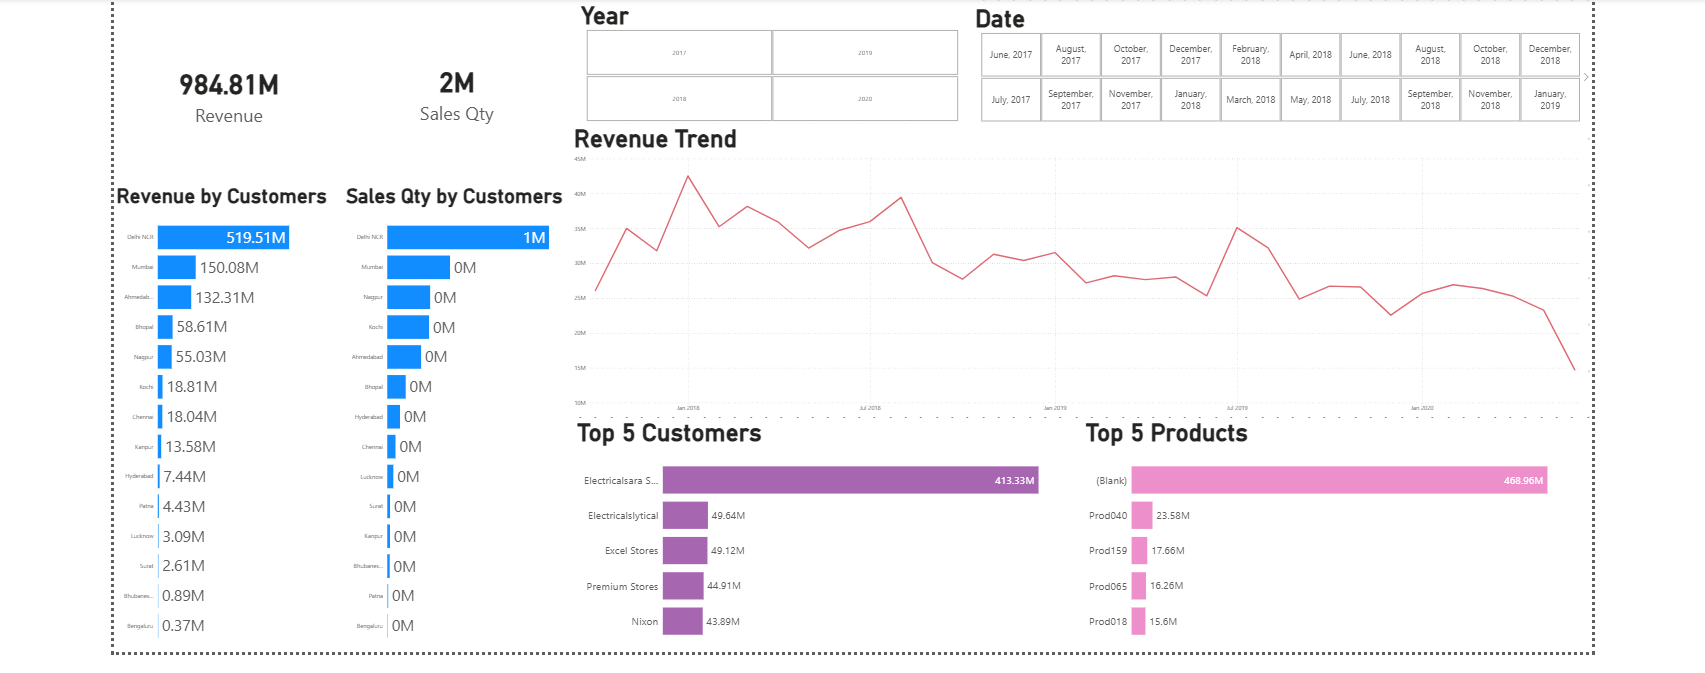

Layout of this report page (visuals, bound fields, positions):
{"tool":"powerbi","page":{"name":"Page 1","canvas":[3050,1350],"ordinal":0},"visuals":[{"type":"card","fields":{"Values":["basemeasures (2).Revenue"]},"box":[0,2,474,384],"z":0},{"type":"card","fields":{"Values":["basemeasures (2).Sales Qty"]},"box":[473.8,0,467.6,384],"z":1000},{"type":"barChart","title":"Revenue by Customers","fields":{"Y":["basemeasures (2).Revenue"],"Category":["sales markets.markets_name"]},"box":[0,384,473.8,966.2],"z":2000},{"type":"barChart","title":"Sales Qty by Customers","fields":{"Y":["basemeasures (2).Sales Qty"],"Category":["sales markets.markets_name"]},"box":[473.3,383.3,476.7,966.7],"z":3000},{"type":"slicer","fields":{"Values":["sales date.cy_date"]},"box":[1765,5,1285,255],"z":5000},{"type":"barChart","title":"Top 5 Customers","fields":{"Y":["basemeasures (2).Revenue"],"Category":["sales customers.custmer_name"]},"box":[950,866.7,1050,483.3],"z":6000},{"type":"barChart","title":"Top 5 Products","fields":{"Y":["basemeasures (2).Revenue"],"Category":["sales products.product_code"]},"box":[2000,866.7,1050,483.3],"z":7000},{"type":"lineChart","title":"Revenue Trend","fields":{"Y":["basemeasures (2).Revenue"],"Category":["sales date.cy_date.Variation.Date Hierarchy.Year","sales date.cy_date.Variation.Date Hierarchy.Quarter","sales date.cy_date.Variation.Date Hierarchy.Month","sales date.cy_date.Variation.Date Hierarchy.Day"]},"box":[945,260,2100,605],"z":8000},{"type":"slicer","fields":{"Values":["sales date.year"]},"box":[950,0,815,260],"z":8001}]}

Visuals, with their boxes on the page's 3050x1350 design canvas (x1, y1, x2, y2). These are canvas units, not pixel positions in the 1705x673 screenshot, which may show the page scaled, cropped or inside an application window:
card - basemeasures (2).Revenue: [left=0, top=2, right=474, bottom=386]
card - basemeasures (2).Sales Qty: [left=474, top=0, right=941, bottom=384]
"Revenue by Customers" barChart: [left=0, top=384, right=474, bottom=1350]
"Sales Qty by Customers" barChart: [left=473, top=383, right=950, bottom=1350]
slicer - sales date.cy_date: [left=1765, top=5, right=3050, bottom=260]
"Top 5 Customers" barChart: [left=950, top=867, right=2000, bottom=1350]
"Top 5 Products" barChart: [left=2000, top=867, right=3050, bottom=1350]
"Revenue Trend" lineChart: [left=945, top=260, right=3045, bottom=865]
slicer - sales date.year: [left=950, top=0, right=1765, bottom=260]
